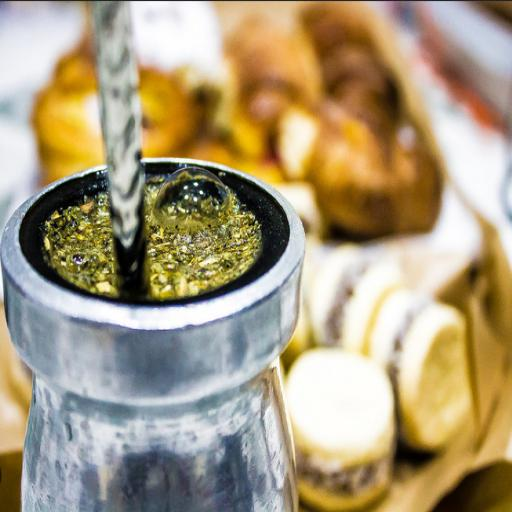bolleria: (285, 348, 394, 511), (367, 289, 471, 450)
mate: (1, 1, 304, 511)
